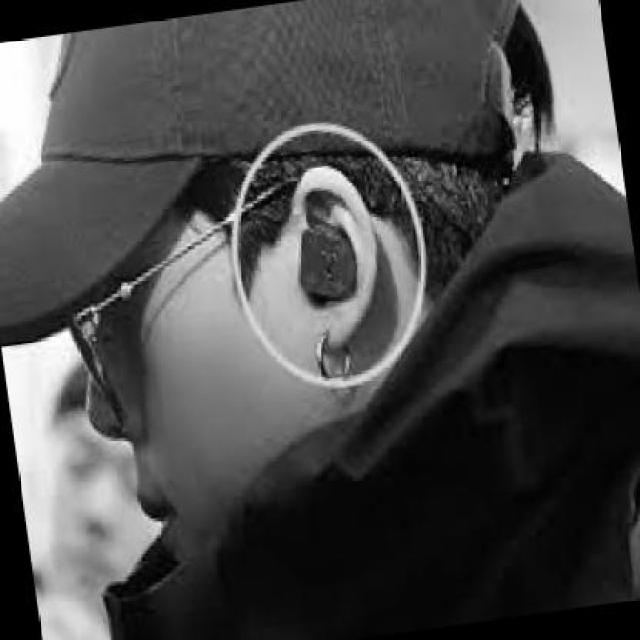earphone: (285, 210, 366, 304)
